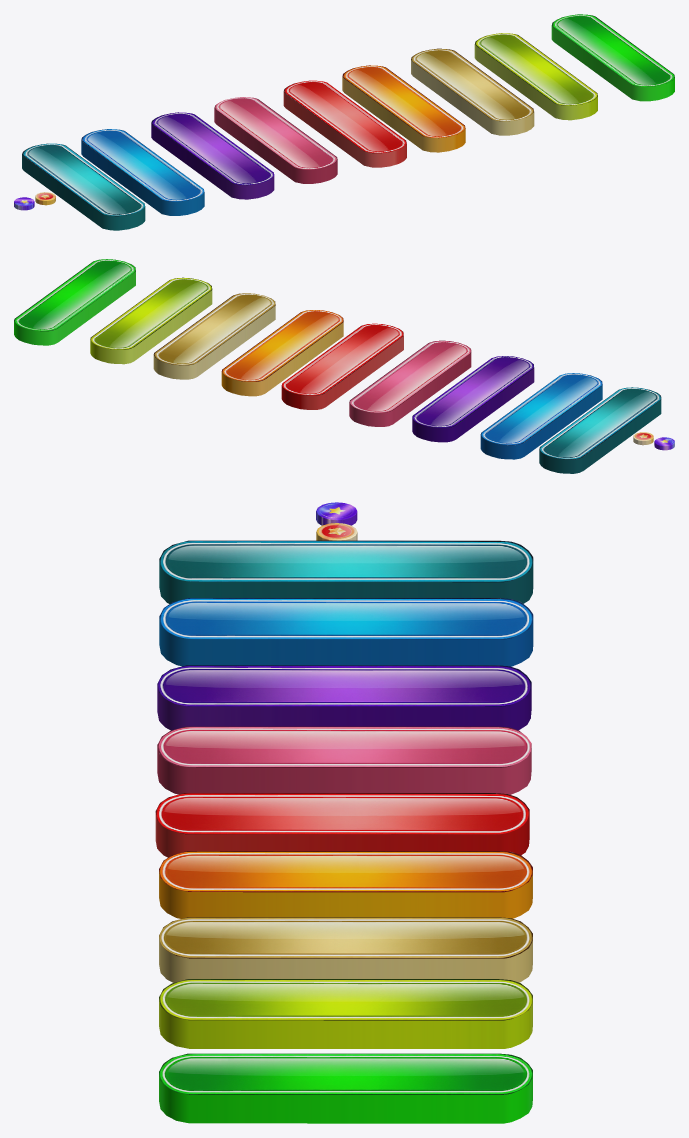
The model's file is Crunch Grid.fbx.
The picture shows the model from 3 angles, top to bottom: view 1: azimuth 30°, elevation 25°; view 2: azimuth 150°, elevation 25°; view 3: azimuth 270°, elevation 25°; orthographic projection. The views are drawn at different scales.
Visible parts, largest first — view 1: Stick.002, Stick.005, Stick.009, Stick.008, Stick, Stick.003, Stick.004, Stick.001, Stick.006; view 2: Stick.001, Stick.004, Stick, Stick.008, Stick.006, Stick.003, Stick.002, Stick.009, Stick.005; view 3: Stick.005, Stick.003, Stick.001, Stick.006, Stick.008, Stick.002, Stick.004, Stick.009, Stick.
Boxes of the visible parts, x1=… form: Stick.002: x1=151, y1=112, x2=274, y2=199; Stick.005: x1=551, y1=14, x2=674, y2=101; Stick.009: x1=283, y1=80, x2=406, y2=167; Stick.008: x1=342, y1=65, x2=465, y2=152; Stick: x1=22, y1=143, x2=145, y2=230; Stick.003: x1=474, y1=33, x2=597, y2=120; Stick.004: x1=411, y1=48, x2=534, y2=135; Stick.001: x1=81, y1=129, x2=204, y2=215; Stick.006: x1=214, y1=97, x2=337, y2=183; Stick.001: x1=480, y1=373, x2=602, y2=459; Stick.004: x1=153, y1=293, x2=275, y2=379; Stick: x1=539, y1=387, x2=661, y2=473; Stick.008: x1=221, y1=310, x2=343, y2=396; Stick.006: x1=349, y1=340, x2=471, y2=426; Stick.003: x1=90, y1=277, x2=212, y2=364; Stick.002: x1=412, y1=356, x2=534, y2=442; Stick.009: x1=281, y1=323, x2=403, y2=409; Stick.005: x1=14, y1=259, x2=135, y2=345; Stick.005: x1=159, y1=1053, x2=532, y2=1123; Stick.003: x1=159, y1=979, x2=532, y2=1048; Stick.001: x1=159, y1=598, x2=533, y2=666; Stick.006: x1=157, y1=726, x2=531, y2=794; Stick.008: x1=159, y1=851, x2=532, y2=918; Stick.002: x1=157, y1=665, x2=531, y2=730; Stick.004: x1=159, y1=917, x2=532, y2=982; Stick.009: x1=155, y1=793, x2=529, y2=857; Stick: x1=159, y1=540, x2=533, y2=603.
Bounding box in the file's own units: 6.02 × 0.1328 × 1.6.
Materials: 3 (3 with a texture image).
